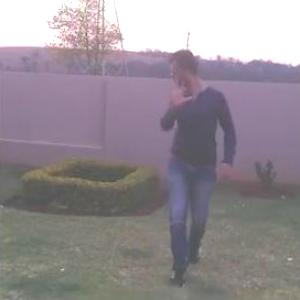follow_hand: (164, 76, 193, 107)
